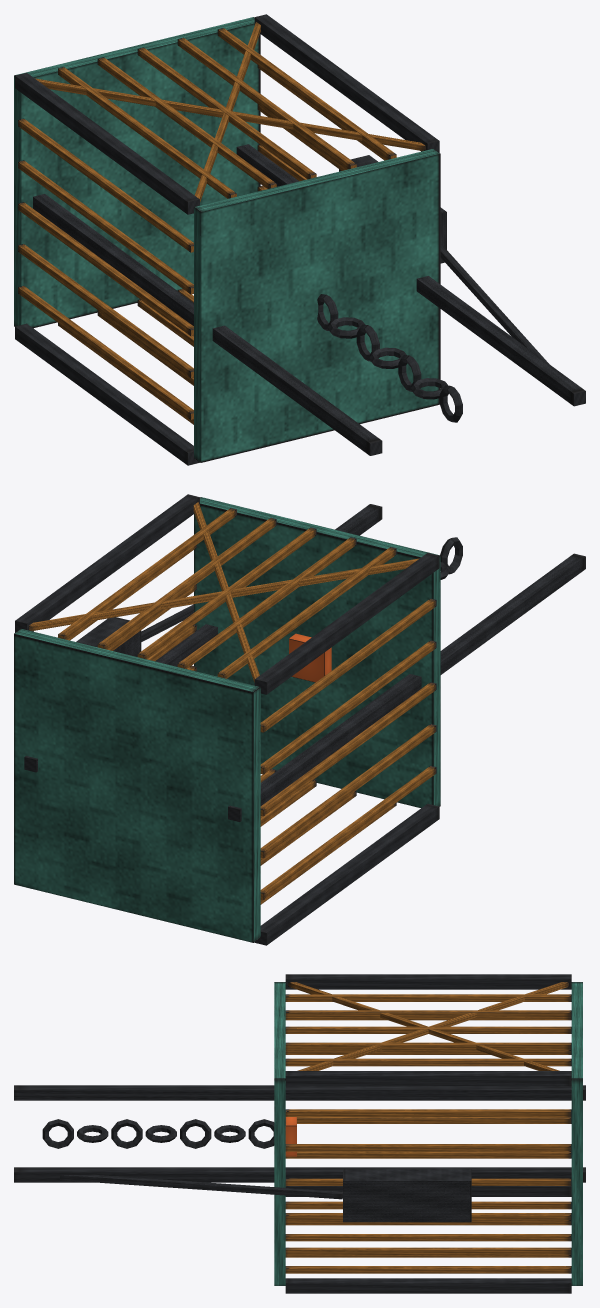
Rendered from ashbell_chain_lift_cage.obj.
The picture shows the model from 3 angles, top to bottom: view 1: azimuth 30°, elevation 25°; view 2: azimuth 150°, elevation 25°; view 3: azimuth 270°, elevation 25°; orthographic projection. The views are drawn at different scales.
Parts seen in each view (by area): view 1: ashbell_chain_lift_cage; view 2: ashbell_chain_lift_cage; view 3: ashbell_chain_lift_cage.
Part boxes in pixels (box(x1,y1,x2,y2)): ashbell_chain_lift_cage: box(14, 14, 585, 465); ashbell_chain_lift_cage: box(14, 494, 585, 945); ashbell_chain_lift_cage: box(14, 974, 585, 1293).
Size of the model in its own units: 1.96 by 1.68 by 4.
Materials: 4 (4 with a texture image).
